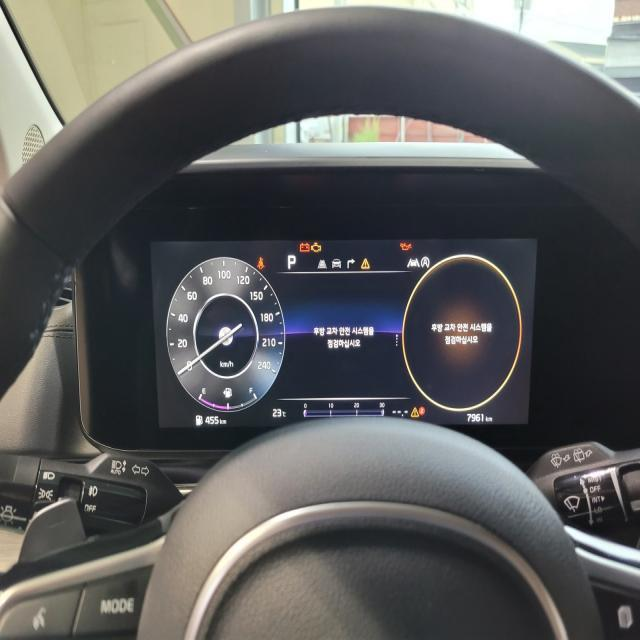Central Warning lamp: (360, 256, 370, 268)
